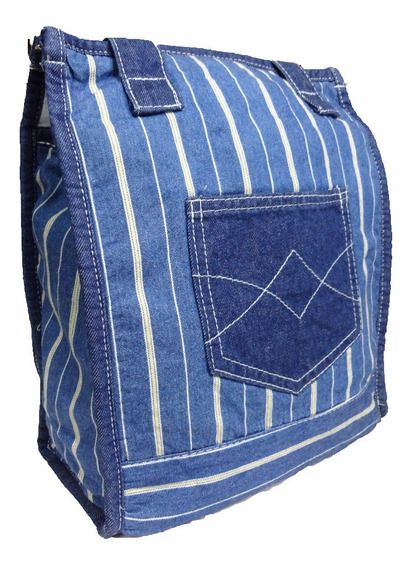cartera: (19, 25, 393, 540)
